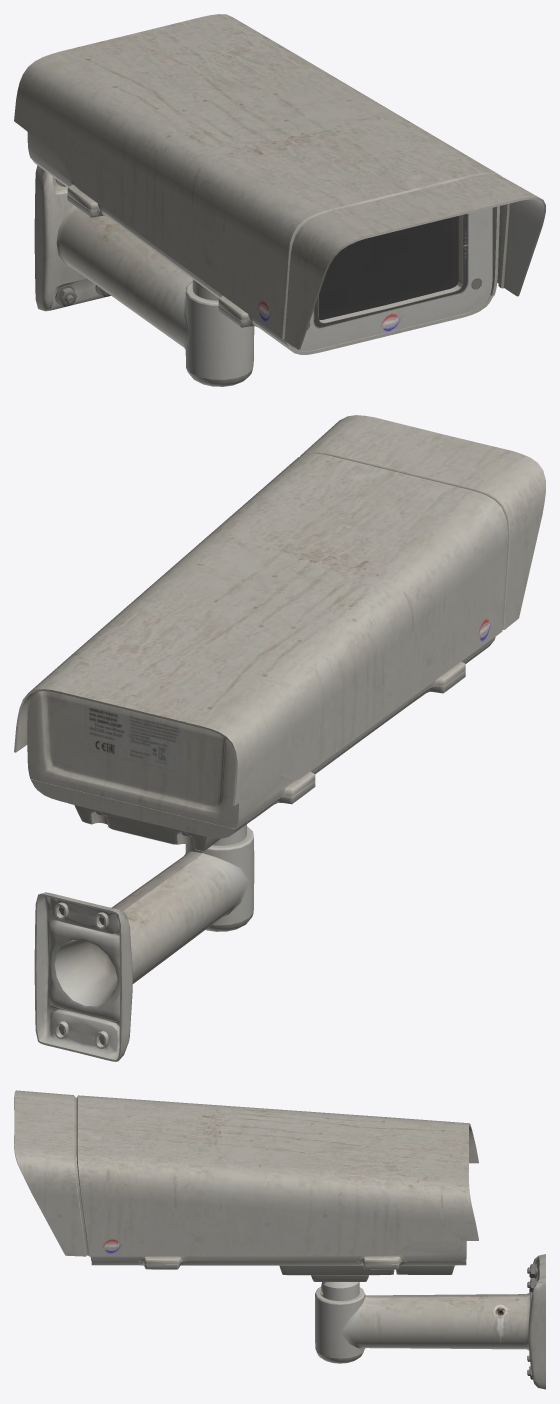
The picture shows the model from 3 angles, top to bottom: view 1: azimuth 30°, elevation 25°; view 2: azimuth 150°, elevation 25°; view 3: azimuth 270°, elevation 25°; orthographic projection. The views are drawn at different scales.
Visible parts, largest first — view 1: security_camera_02, security_camera_02_mount; view 2: security_camera_02, security_camera_02_mount; view 3: security_camera_02, security_camera_02_mount.
Boxes of the visible parts, box(x1,y1,x2,y2) form: security_camera_02: box(14, 14, 545, 354); security_camera_02_mount: box(34, 165, 254, 386); security_camera_02: box(14, 415, 545, 851); security_camera_02_mount: box(34, 824, 254, 1061); security_camera_02: box(14, 1090, 478, 1294); security_camera_02_mount: box(315, 1254, 545, 1389).
Size of the model in its own units: 0.1407 by 0.2086 by 0.3938.
2 materials, 2 textured.
